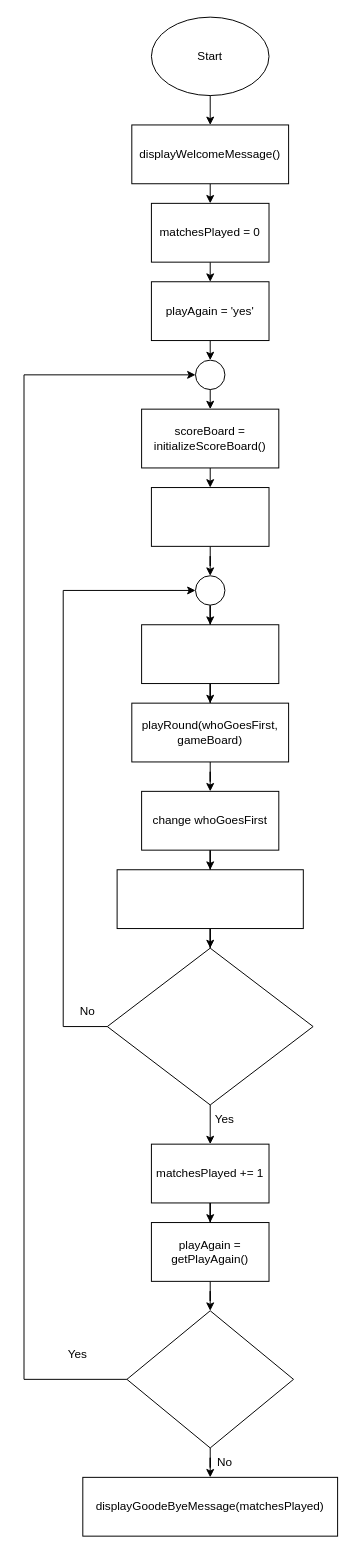
The diagram is 355 pixels wide and 1553 high, and some of its shapes have lost their labels. Here are the shapes that lost their labels. From the top down, the centre of each, then its label:
At pixel 209 516: "whoGoesFirst = getWhoGoesFirst()".
At pixel 210 654: "gameBoard = initializeGameBoard()".
At pixel 209 899: "iterateScoreBoard(gameBoard)".
At pixel 209 1026: "scoreBoard.playerWins > 3 || scoreBoard.computerWins > 3?".
At pixel 210 1379: "playAgain === 'yes' or 'yes".
